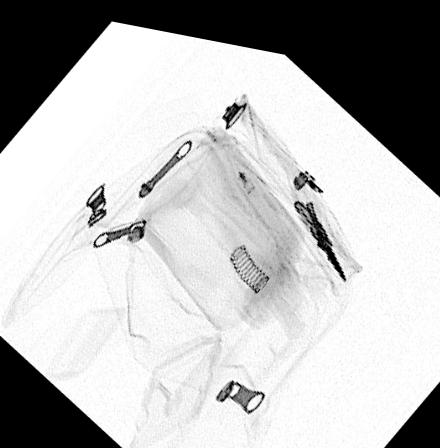Scissors: (287, 181, 348, 270)
